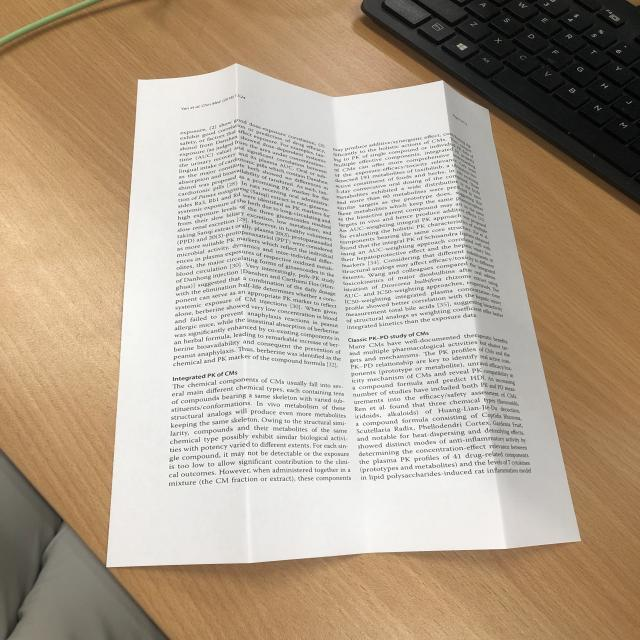kertas: (90, 54, 580, 568)
